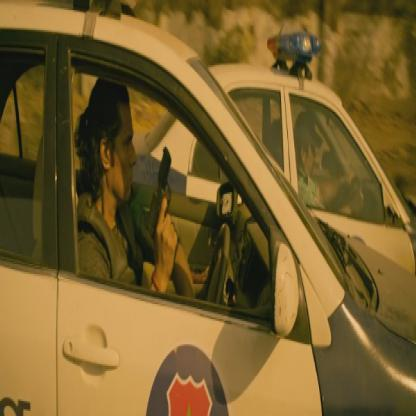Gun: (144, 140, 180, 262)
